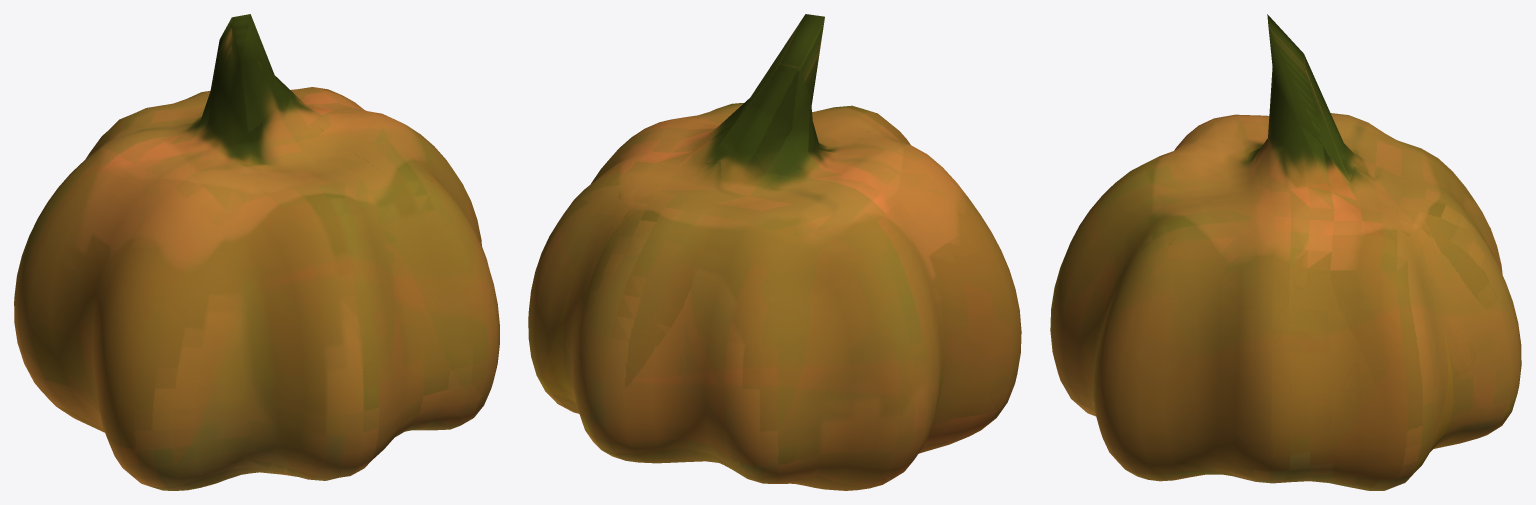
File: pumpkin.glb
The picture shows the model from 3 angles, left to right: view 1: azimuth 30°, elevation 25°; view 2: azimuth 150°, elevation 25°; view 3: azimuth 270°, elevation 25°; orthographic projection. The views are drawn at different scales.
Visible parts, largest first — view 1: Quad Sphere.001; view 2: Quad Sphere.001; view 3: Quad Sphere.001.
Part boxes in pixels (x1=…): Quad Sphere.001: x1=14, y1=14, x2=499, y2=490; Quad Sphere.001: x1=528, y1=14, x2=1021, y2=490; Quad Sphere.001: x1=1050, y1=14, x2=1521, y2=490.
Bounding box in the file's own units: 3.29 × 3.35 × 3.41.
Materials: 1 (1 with a texture image).
